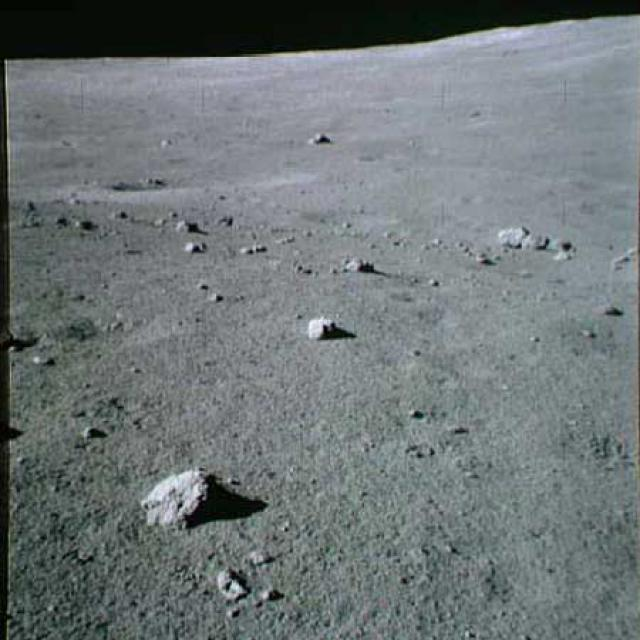crater: (14, 312, 184, 353), (83, 171, 313, 196)
rock: (131, 462, 224, 532), (498, 216, 577, 263), (207, 562, 255, 608), (296, 304, 344, 346), (331, 246, 376, 278), (172, 211, 204, 236), (302, 127, 334, 149), (182, 237, 206, 257)
